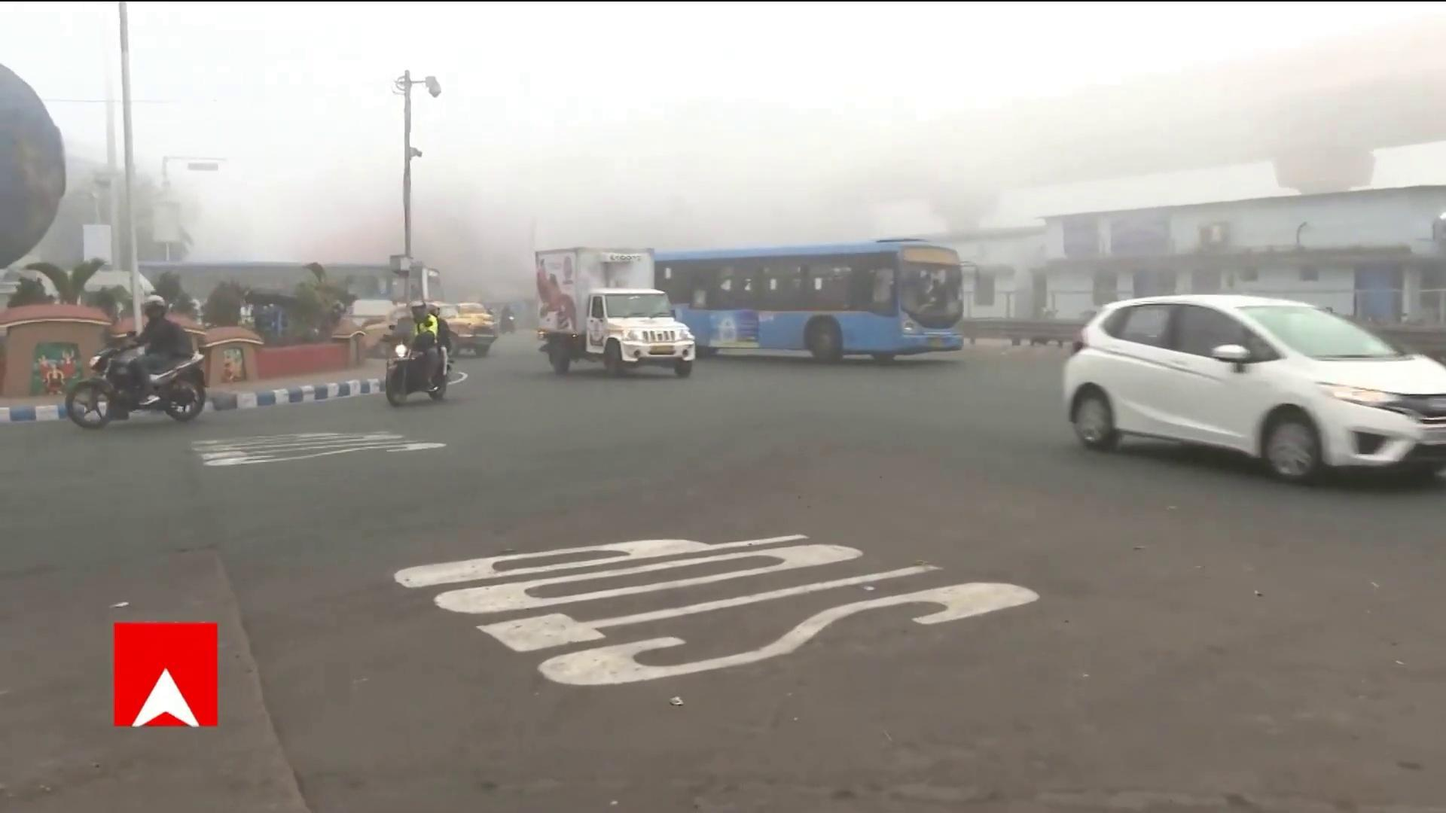Bike: (63, 292, 209, 428), (382, 301, 454, 408)
Bus: (696, 238, 967, 360)
Car: (1058, 289, 1446, 489)
Truck: (534, 243, 697, 377)
